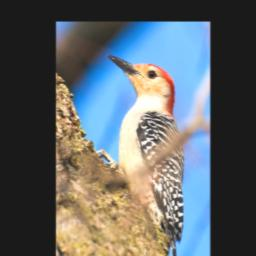Woodpecker: (106, 52, 184, 256)
